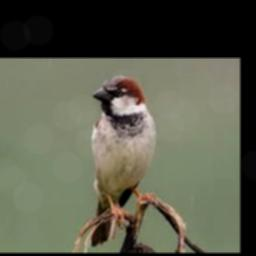Sparrow: (90, 75, 157, 246)
